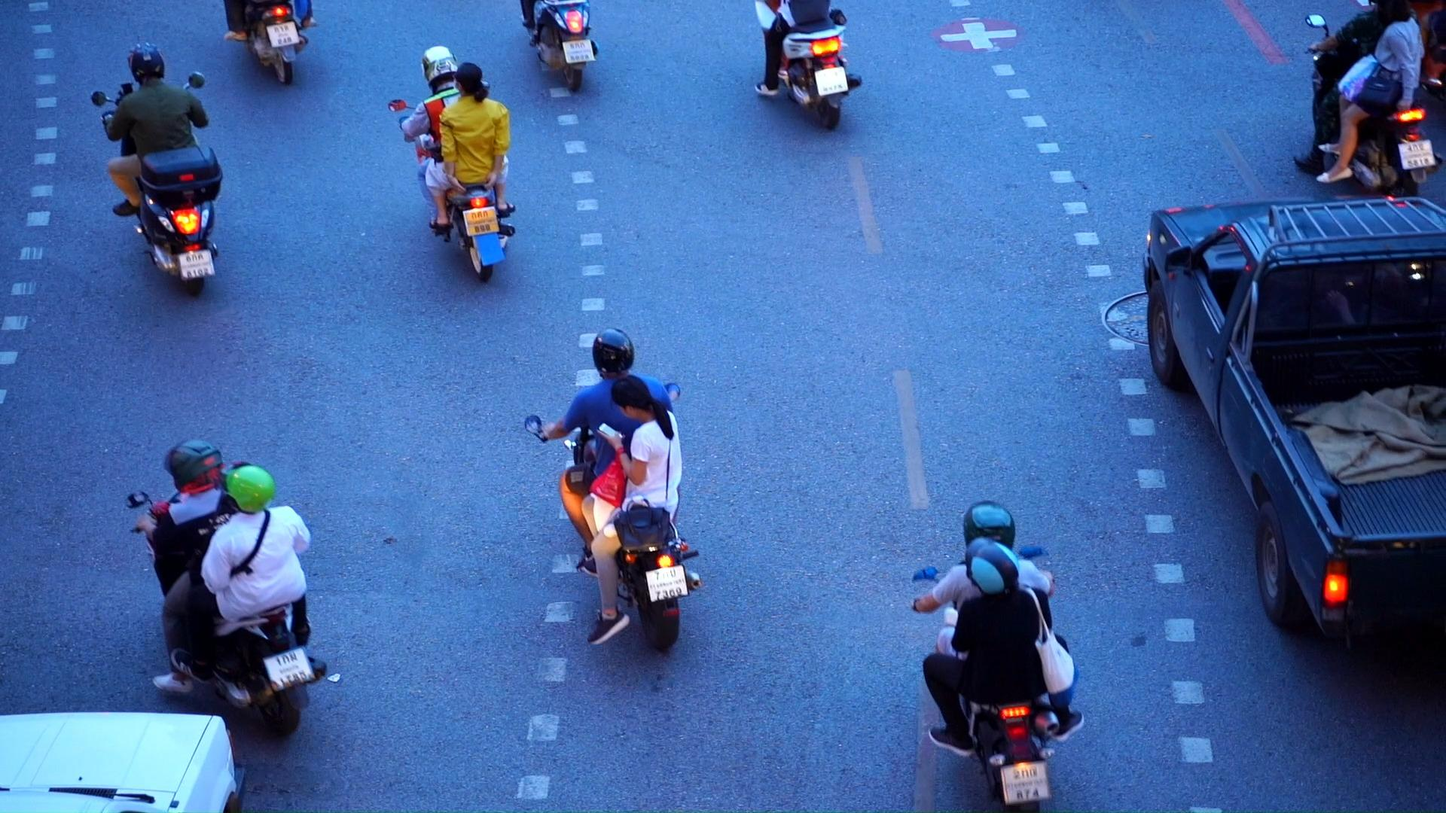driver: (124, 438, 328, 736), (525, 328, 705, 653), (913, 500, 1084, 813), (90, 42, 223, 295), (388, 46, 518, 283), (1292, 0, 1446, 196), (755, 0, 863, 130), (222, 0, 320, 85), (519, 0, 600, 92)
helmet: (965, 537, 1021, 600), (164, 438, 223, 496), (218, 461, 277, 515), (963, 499, 1016, 553), (592, 327, 635, 380), (420, 46, 460, 90), (127, 42, 166, 86)
no-helmet: (610, 374, 672, 422), (452, 62, 489, 104), (1375, 0, 1412, 28)
